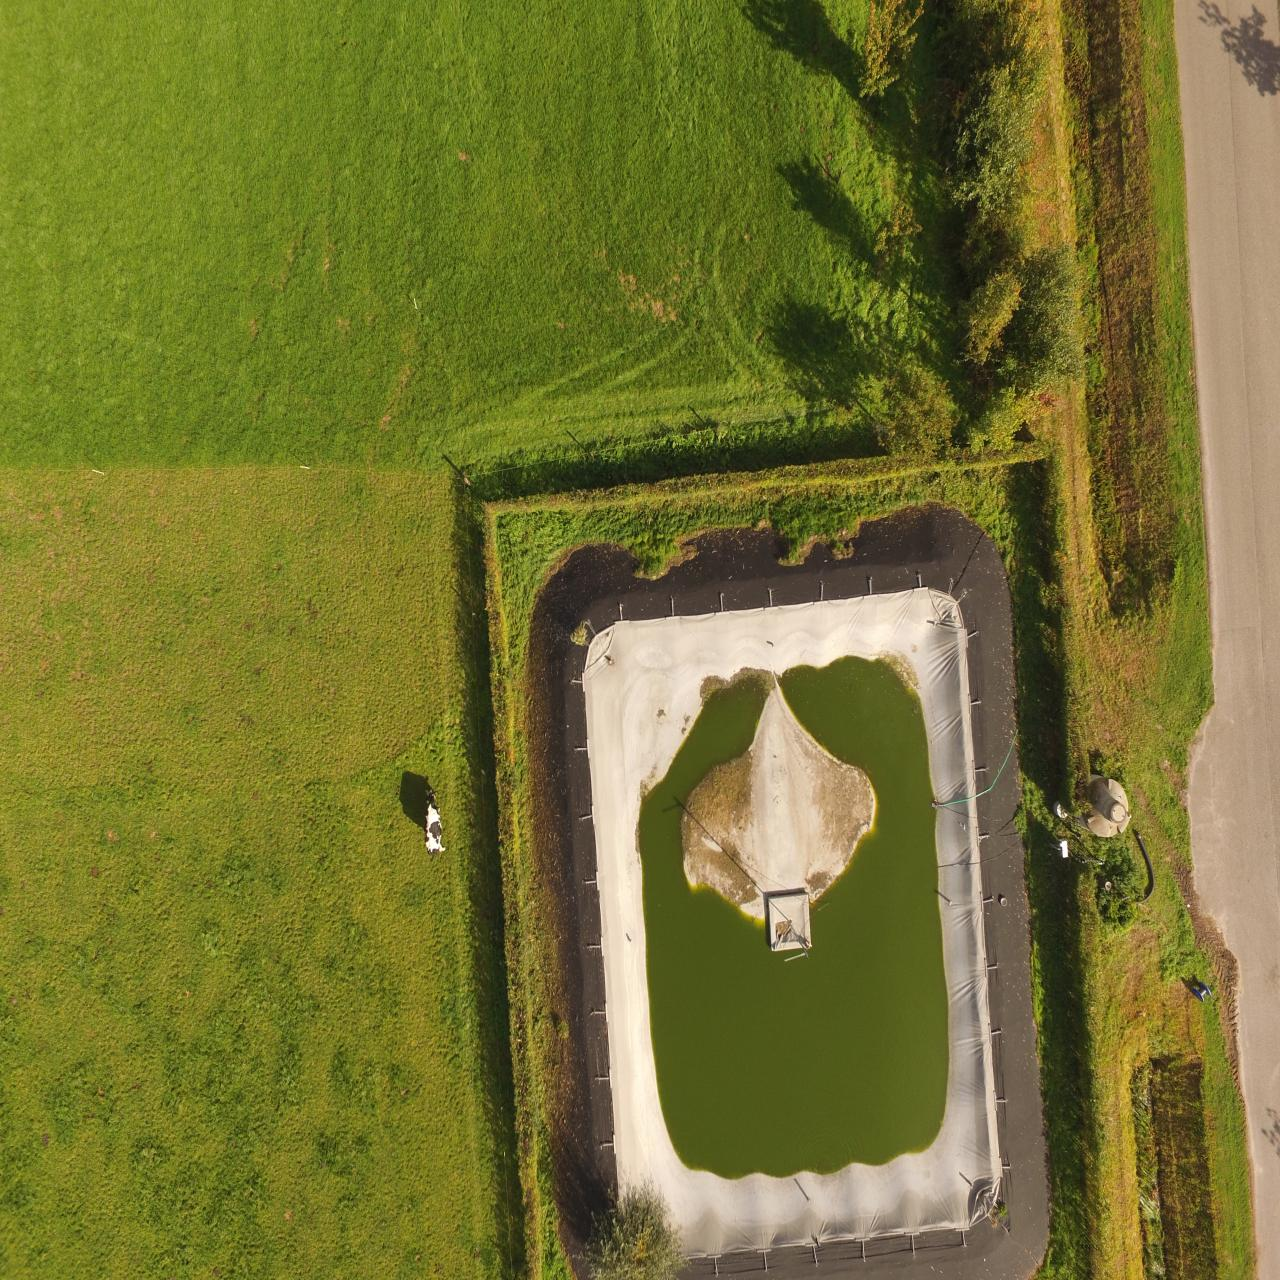cow: (422, 790, 447, 857)
